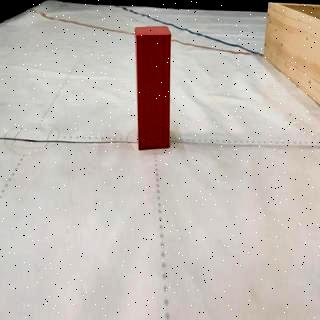redbox: (134, 24, 172, 152)
